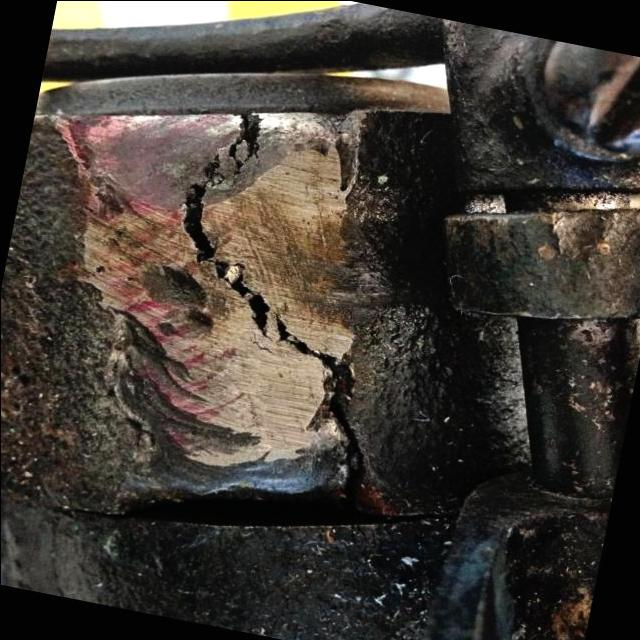defect: (167, 97, 375, 518)
